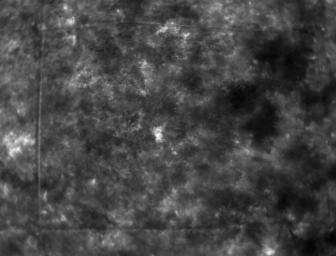landmine: (149, 122, 167, 144)
